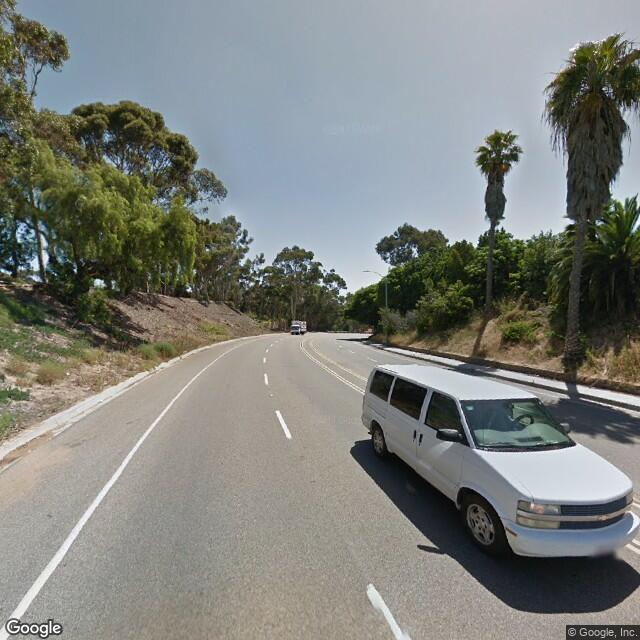litter: (64, 371, 76, 379)
